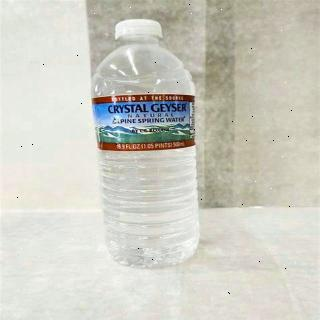Plastic-bottle: (78, 17, 212, 277)
